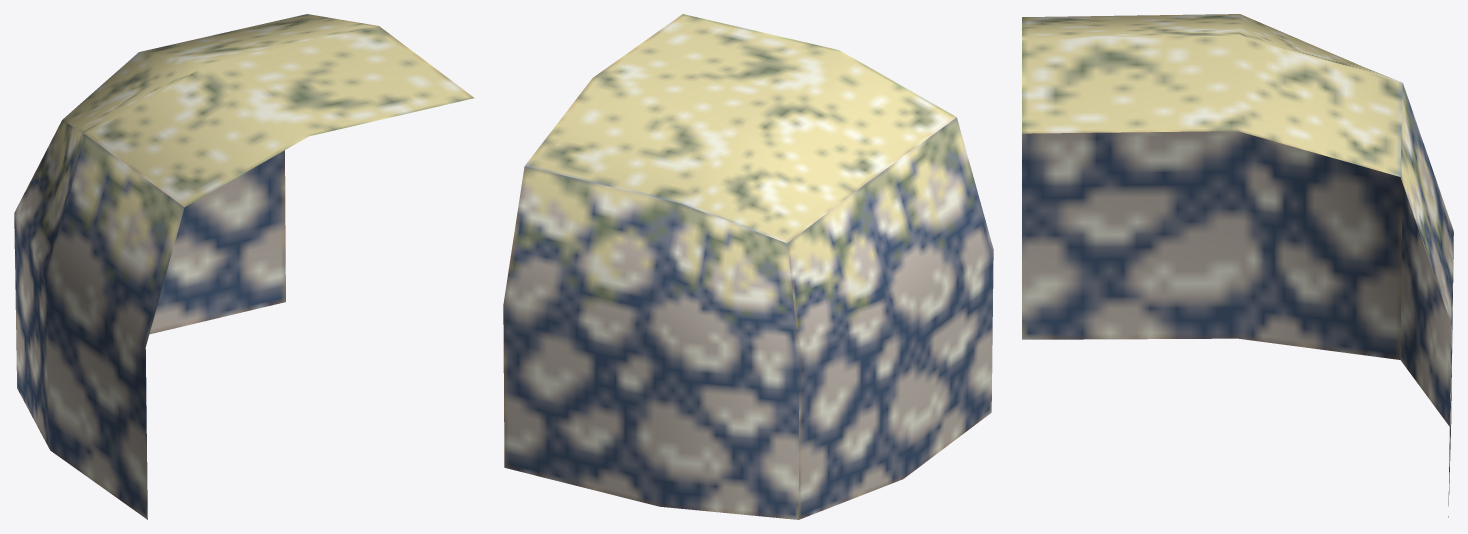
Rendered from sandCTile_groundCorner_upperLeft.fbx.
3 views of the same model, side by side, from view 1: azimuth 30°, elevation 25°; view 2: azimuth 150°, elevation 25°; view 3: azimuth 270°, elevation 25° (orthographic). The views are drawn at different scales.
Visible parts, largest first — view 1: sandCTile_groundCorner_upperLeft; view 2: sandCTile_groundCorner_upperLeft; view 3: sandCTile_groundCorner_upperLeft.
Part boxes in pixels (<box>): sandCTile_groundCorner_upperLeft: <box>14,14,474,519</box>; sandCTile_groundCorner_upperLeft: <box>503,14,993,519</box>; sandCTile_groundCorner_upperLeft: <box>1022,14,1453,517</box>.
Size of the model in its own units: 1.01 by 1.01 by 1.01.
